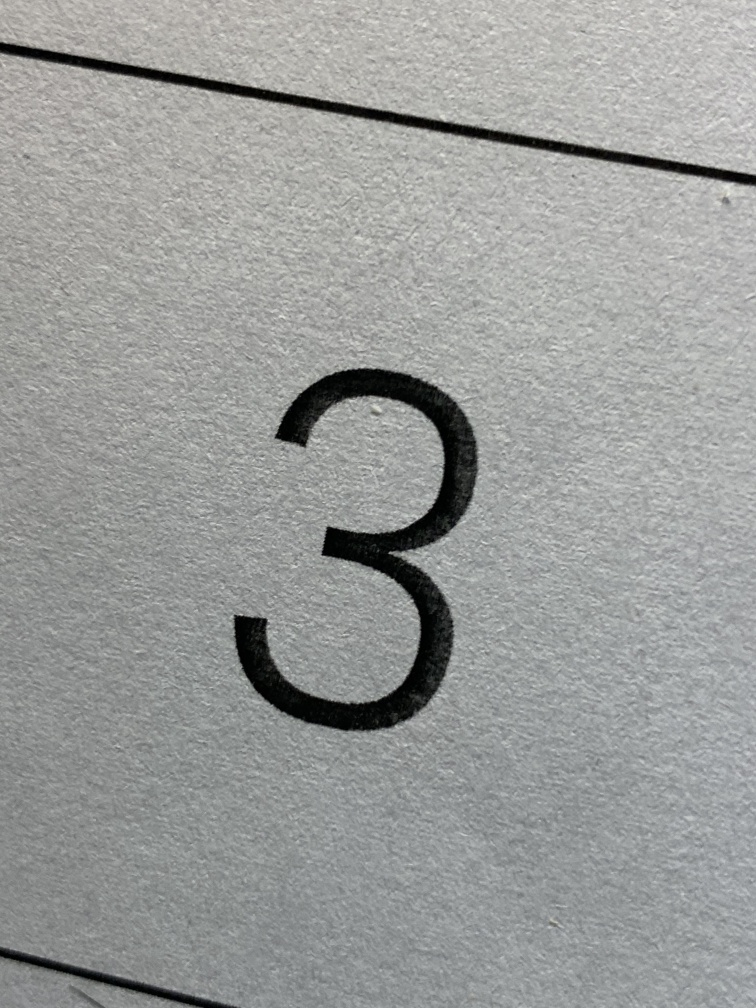three: (174, 326, 533, 782)
